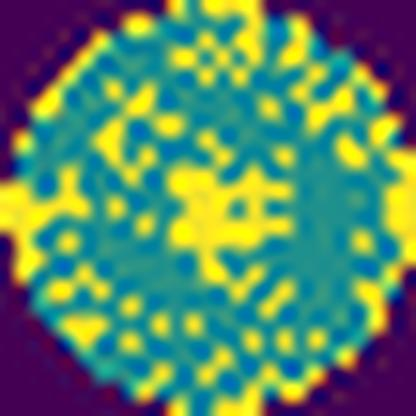Center: (163, 159, 300, 289)
